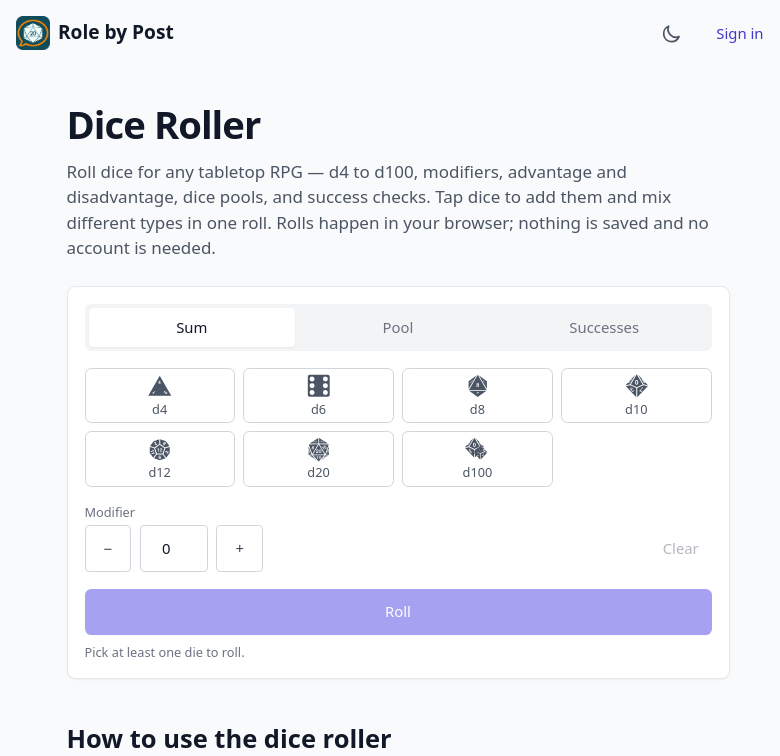
Test: DiceRollerPage › combines different dice in one roll
Click the button named "Add d6": (319, 395) [243,368,394,423]
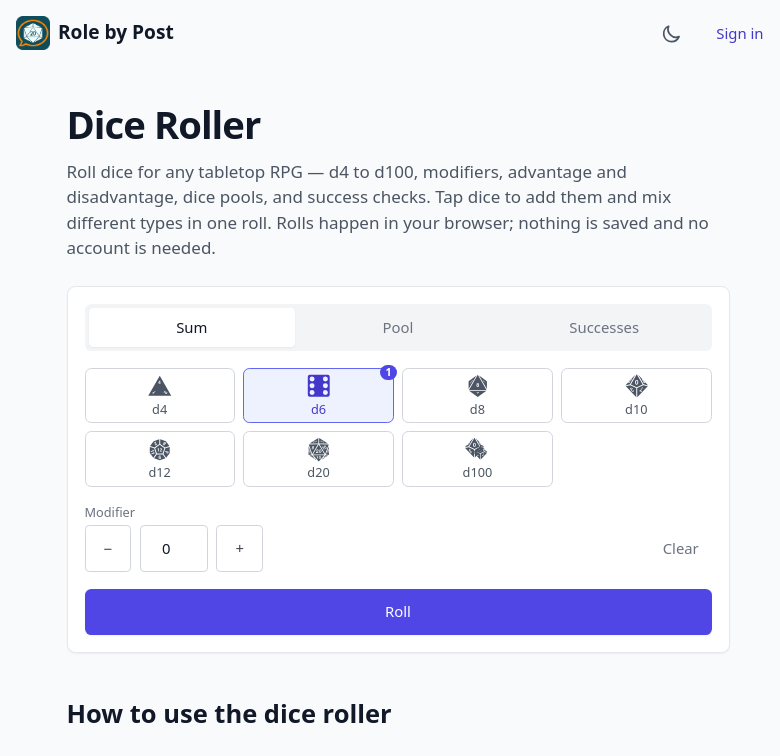
Click the button named "Add d6": (319, 395) [243,368,394,423]
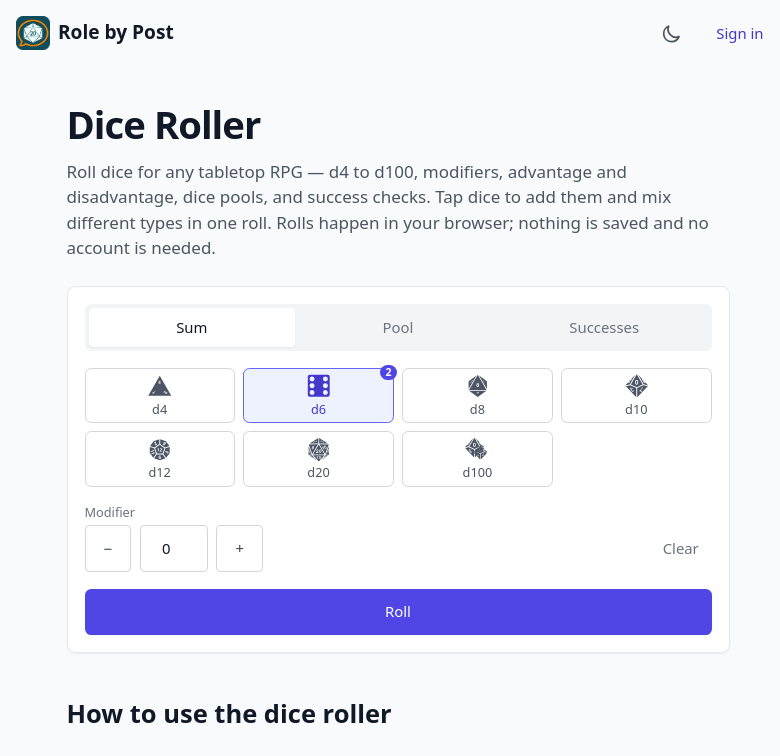
Click the button "d8": (478, 395) [402,368,553,423]
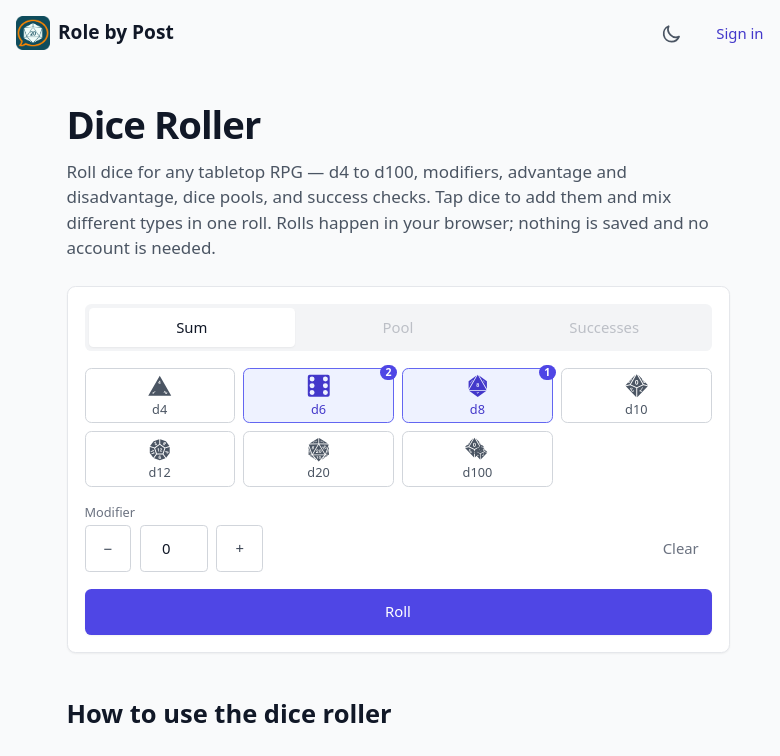
Click the button named "Increase modifier": (240, 548) [216,525,263,572]
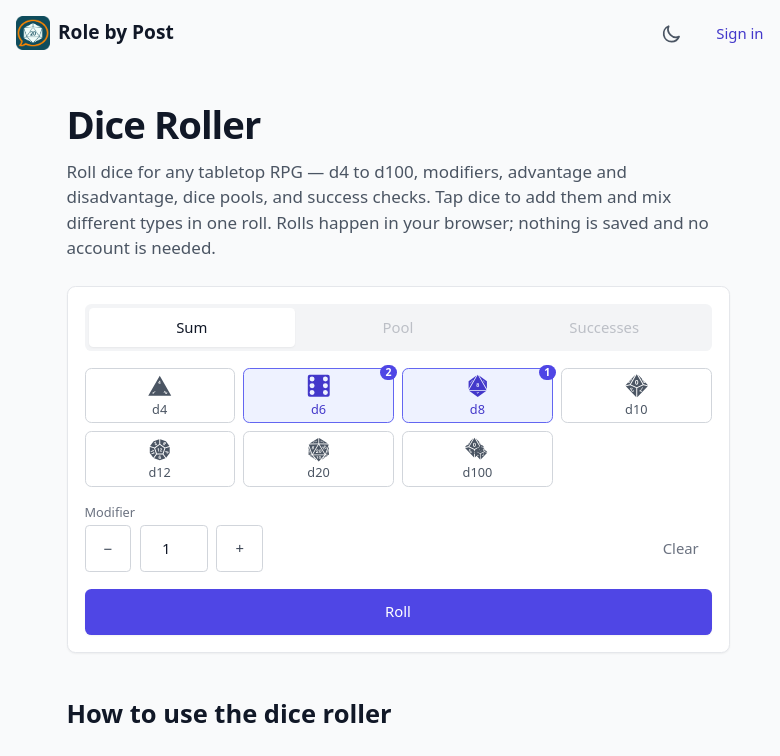
Click the button "Roll": (398, 612) [84,588,712,635]
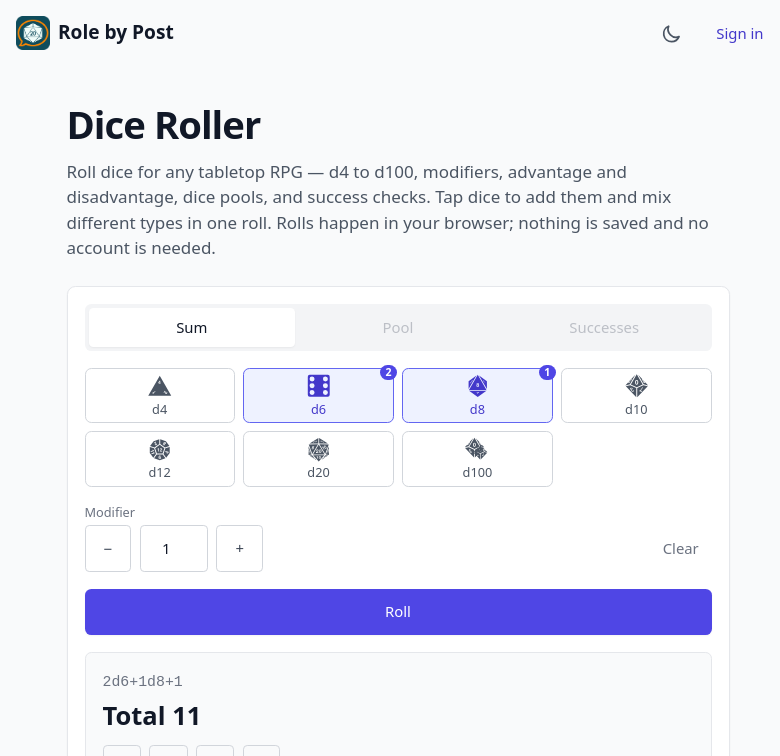
Now the text "2d6+1d8+1" is shown, box [102,674,183,690]
